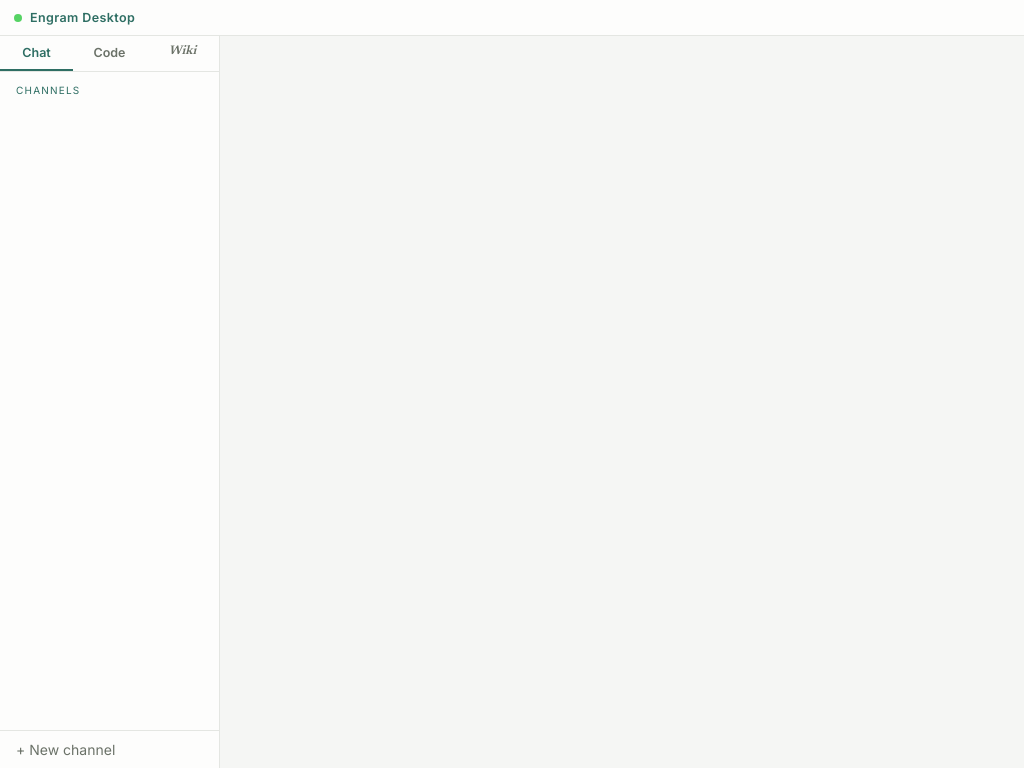
Test case: ★ 터미널 세션 정리 규칙(기존 불변식) › 패널을 접어도(⇥) 세션은 죽지 않는다
The width and height of the screenshot is (1024, 768).
Step 1. Click the text "Code" → coordinates (110, 52), box left=94, top=45, right=126, bottom=60
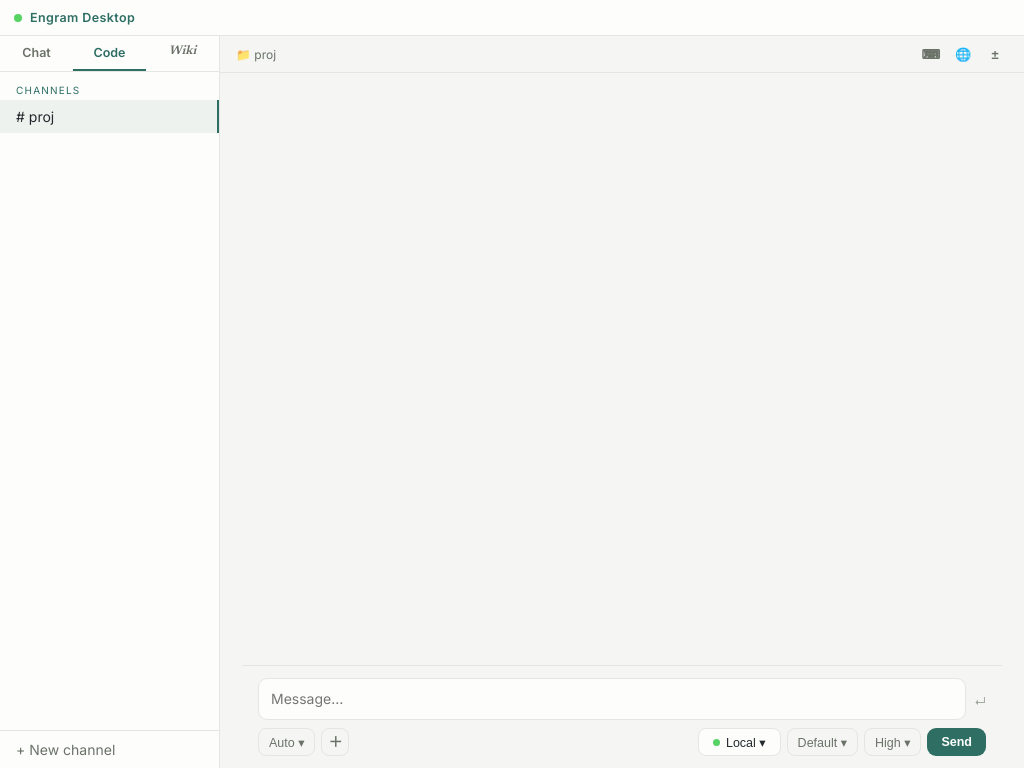
Now the element titled "C:/repo/proj" is shown, box left=220, top=36, right=1023, bottom=73
Step 2. Click the button with class "codeIconBtn" showing "⌨" → coordinates (931, 54), box left=918, top=42, right=944, bottom=66
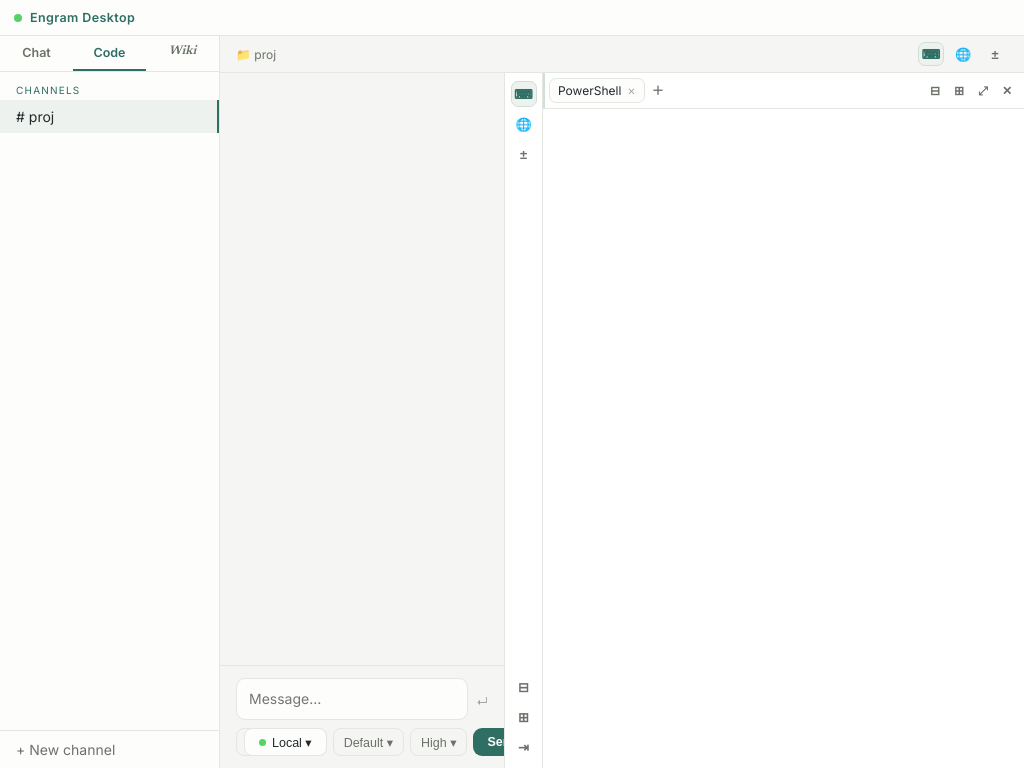
Step 3. Click the button with class "dockRailBtn" showing "⇥" → coordinates (524, 747), box left=510, top=734, right=536, bottom=760
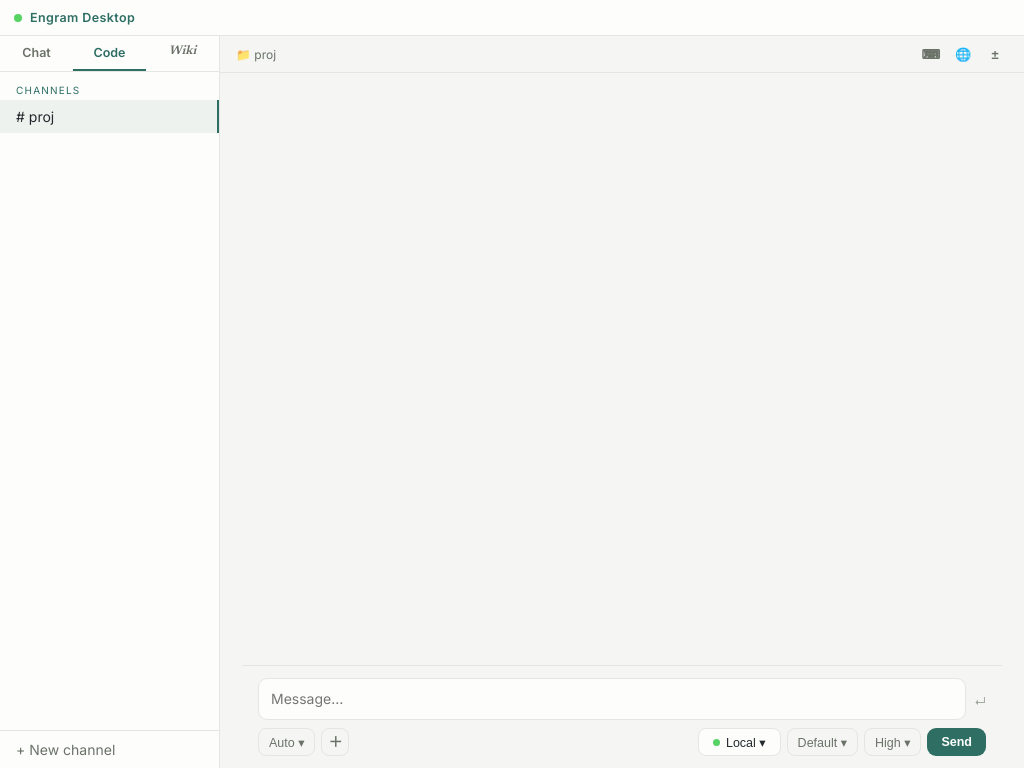
Now the element with class "dockPanel" is gone
